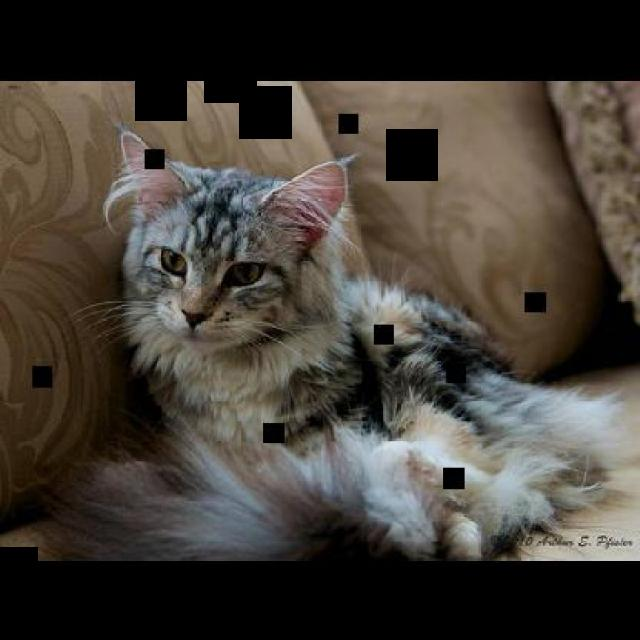unauthorized: (0, 121, 629, 562)
